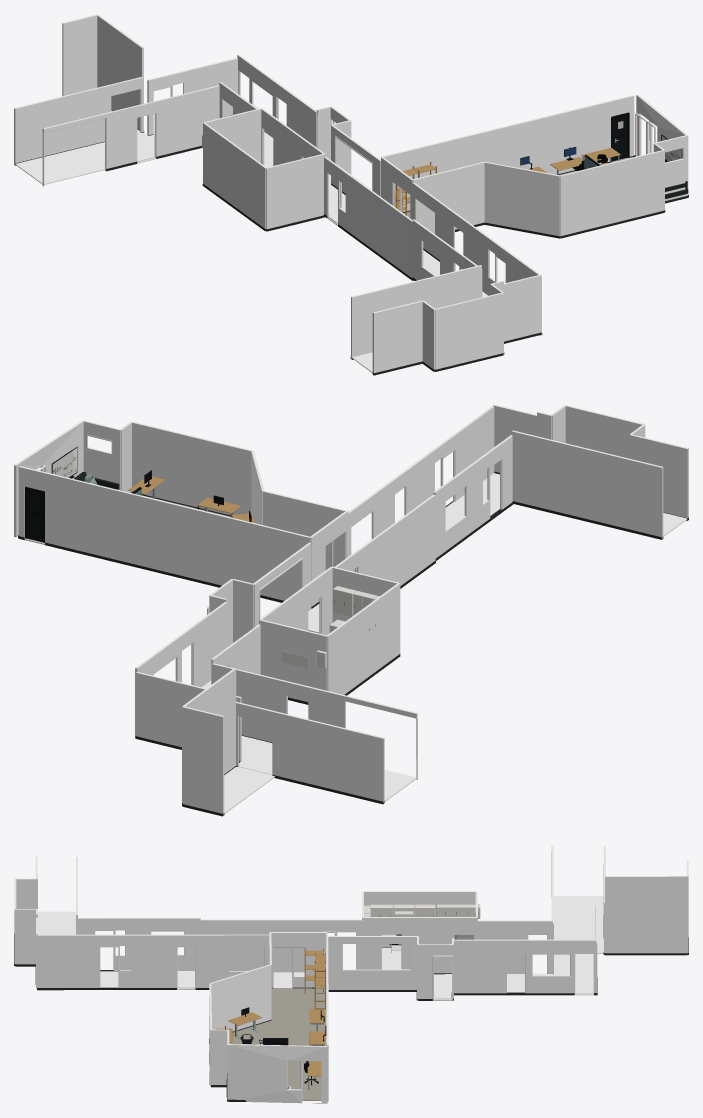
3 views of the same model, one above another, from view 1: azimuth 30°, elevation 25°; view 2: azimuth 150°, elevation 25°; view 3: azimuth 270°, elevation 25° (orthographic). The views are drawn at different scales.
Parts seen in each view (by area): view 1: architecture_region_lab-wall-1, architecture_region_lab-wall-5, architecture_region_north-inner, architecture_region_north-outer, architecture_region_lab-hall-west, architecture_region_lab-wall-6, architecture_region_west-inner, architecture_region_west-alcove-back, architecture_region_kitchen-wall-4, architecture_region_kitchen-wall-3, architecture_region_south-hall-east, architecture_region_west-outer-left (+20 smaller); view 2: architecture_region_lab-wall-1, architecture_region_west-inner, architecture_region_lab-wall-5, architecture_region_north-outer, architecture_region_south-hall-east, architecture_region_kitchen-wall-4, architecture_region_north-inner, architecture_region_lab-hall-west, architecture_region_stair-north, architecture_region_south-hall-west, architecture_region_north-entry, architecture_region_kitchen-wall-1 (+21 smaller); view 3: architecture_region_south-hall-east, architecture_region_stair-east, architecture_region_central-east, architecture_region_lab-wall-2, architecture_region_lab-hall-west, architecture_floor_lab-2f, architecture_region_kitchen-wall-2, architecture_floor_north-hall-2f, architecture_region_central-east-south, architecture_region_lab-wall-6, architecture_region_south-hall-west, architecture_region_central-west (+11 smaller).
Part boxes in pixels (x1=…): architecture_region_lab-wall-1: x1=381, y1=95, x2=634, y2=211; architecture_region_lab-wall-5: x1=560, y1=150, x2=664, y2=237; architecture_region_north-inner: x1=42, y1=85, x2=219, y2=186; architecture_region_north-outer: x1=14, y1=85, x2=108, y2=165; architecture_region_lab-hall-west: x1=324, y1=156, x2=412, y2=277; architecture_region_lab-wall-6: x1=484, y1=161, x2=560, y2=236; architecture_region_west-inner: x1=351, y1=265, x2=481, y2=359; architecture_region_west-alcove-back: x1=434, y1=292, x2=503, y2=369; architecture_region_kitchen-wall-4: x1=203, y1=122, x2=266, y2=228; architecture_region_kitchen-wall-3: x1=266, y1=154, x2=324, y2=229; architecture_region_south-hall-east: x1=412, y1=182, x2=541, y2=335; architecture_region_west-outer-left: x1=372, y1=300, x2=422, y2=373; architecture_region_lab-wall-1: x1=18, y1=466, x2=310, y2=600; architecture_region_west-inner: x1=511, y1=430, x2=663, y2=539; architecture_region_lab-wall-5: x1=131, y1=421, x2=253, y2=515; architecture_region_north-outer: x1=275, y1=711, x2=384, y2=803; architecture_region_south-hall-east: x1=348, y1=405, x2=494, y2=571; architecture_region_kitchen-wall-4: x1=326, y1=583, x2=400, y2=694; architecture_region_north-inner: x1=211, y1=663, x2=417, y2=779; architecture_region_lab-hall-west: x1=335, y1=494, x2=435, y2=585; architecture_region_stair-north: x1=182, y1=706, x2=224, y2=815; architecture_region_south-hall-west: x1=433, y1=435, x2=512, y2=557; architecture_region_north-entry: x1=135, y1=672, x2=241, y2=761; architecture_region_kitchen-wall-1: x1=259, y1=619, x2=327, y2=701; architecture_region_south-hall-east: x1=37, y1=934, x2=269, y2=989; architecture_region_stair-east: x1=605, y1=876, x2=687, y2=953; architecture_region_central-east: x1=454, y1=939, x2=596, y2=995; architecture_region_lab-wall-2: x1=228, y1=1044, x2=327, y2=1103; architecture_region_lab-hall-west: x1=200, y1=919, x2=362, y2=972; architecture_floor_lab-2f: x1=229, y1=988, x2=326, y2=1100; architecture_region_kitchen-wall-2: x1=363, y1=917, x2=476, y2=973; architecture_floor_north-hall-2f: x1=553, y1=896, x2=603, y2=994; architecture_region_central-east-south: x1=328, y1=936, x2=417, y2=989; architecture_region_lab-wall-6: x1=210, y1=964, x2=271, y2=1031; architecture_region_south-hall-west: x1=77, y1=917, x2=200, y2=970; architecture_region_central-west: x1=477, y1=920, x2=552, y2=973.
Bounding box in the file's own units: 24.21 × 4.21 × 32.79.
Materials: 32 (1 with a texture image).
